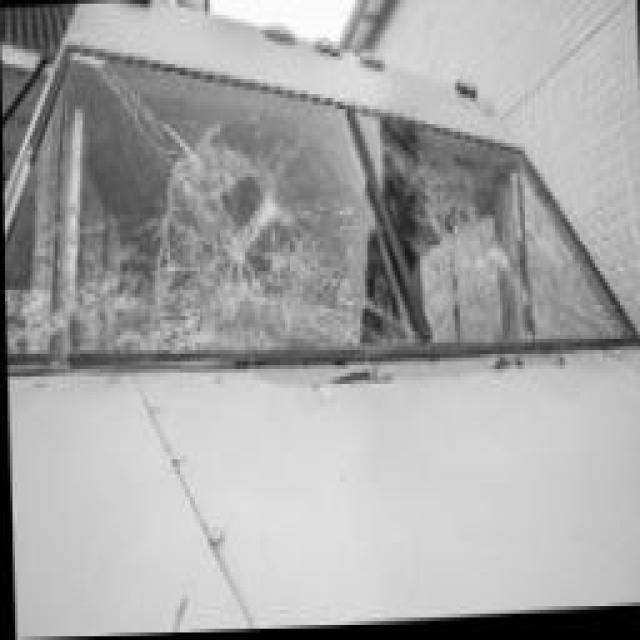Windshield: (32, 34, 590, 385)
